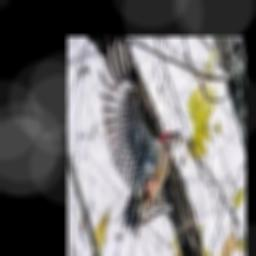Woodpecker: (99, 36, 180, 236)
